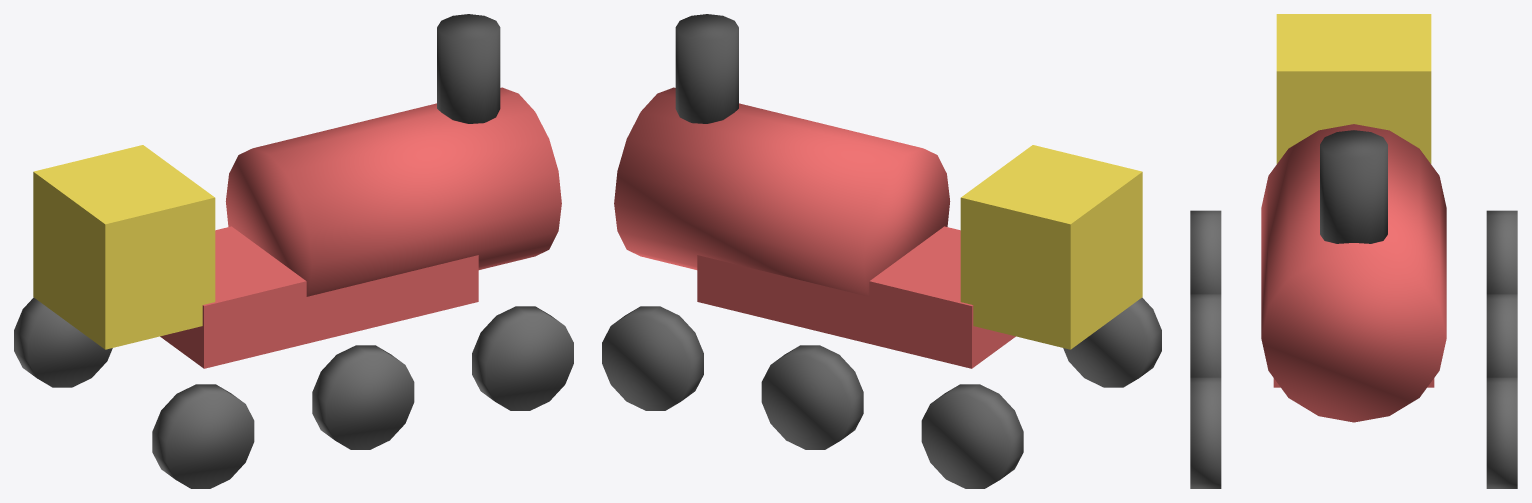
The model's file is tren.glb.
The picture shows the model from 3 angles, left to right: view 1: azimuth 30°, elevation 25°; view 2: azimuth 150°, elevation 25°; view 3: azimuth 270°, elevation 25°; orthographic projection. The views are drawn at different scales.
Parts seen in each view (by area): view 1: Tren; view 2: Tren; view 3: Tren.
Boxes of the visible parts, box(x1,y1,x2,y2) form: Tren: box(14, 14, 573, 488); Tren: box(602, 14, 1161, 488); Tren: box(1190, 14, 1517, 488).
Size of the model in its own units: 0.95 by 0.6544 by 0.5594.
